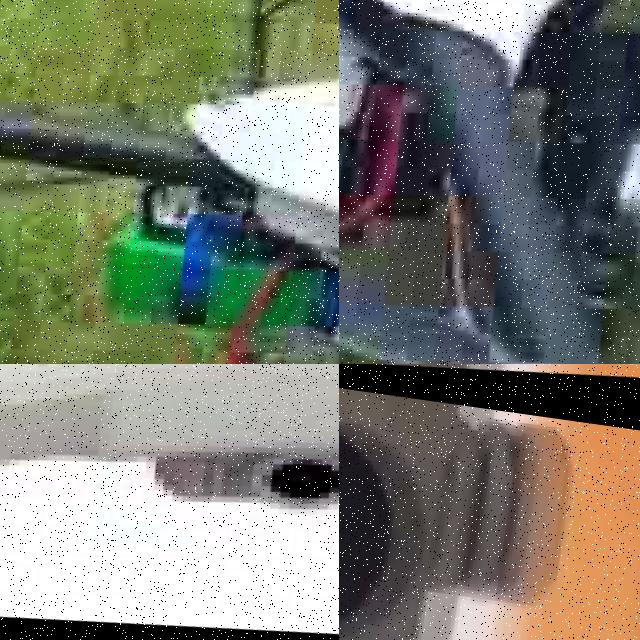drone: (0, 0, 339, 364), (339, 0, 640, 364), (0, 364, 339, 640), (339, 364, 640, 436)
